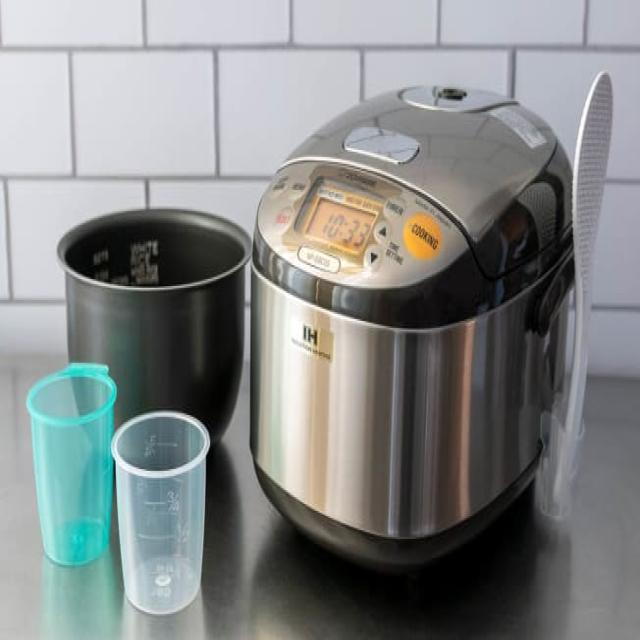appliances: (249, 87, 571, 567), (57, 209, 249, 439)
